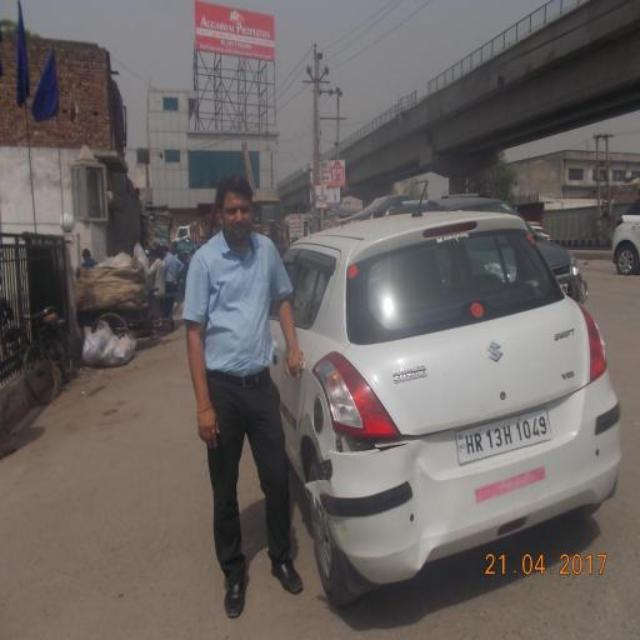dent: (405, 458, 447, 569)
dislocated part: (310, 452, 352, 546), (332, 433, 434, 460)
